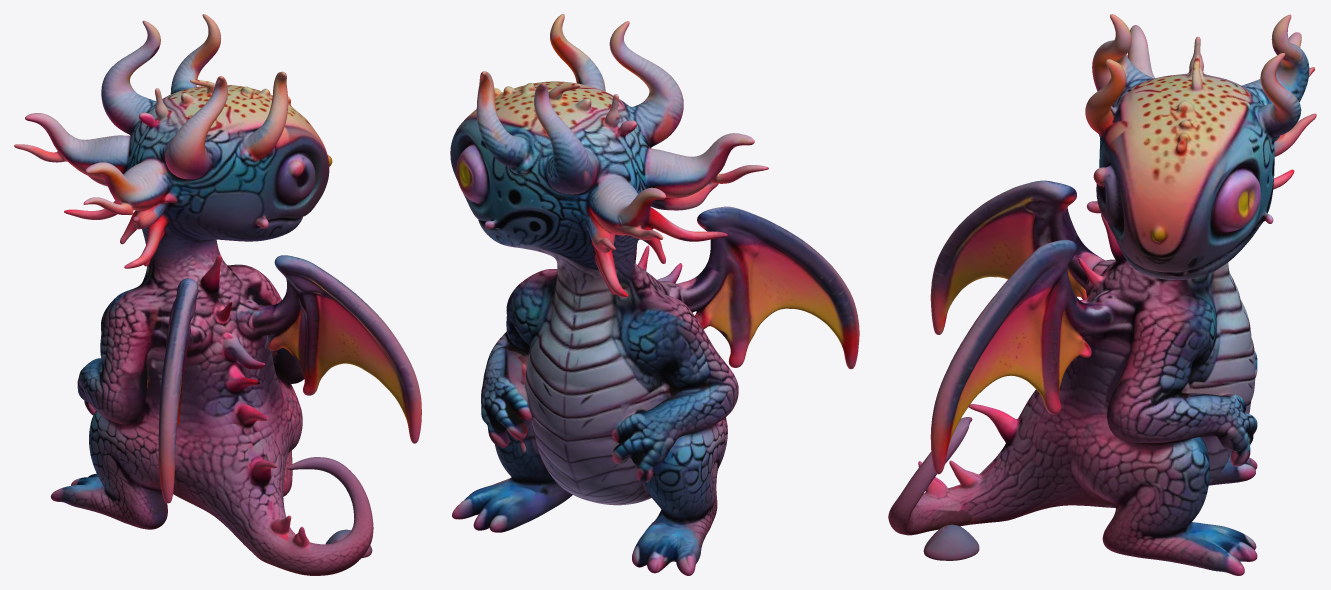
The model's file is Dragon-transformed-D-U4h6BN.glb.
3 renders of one model, left to right at view 1: azimuth 30°, elevation 25°; view 2: azimuth 150°, elevation 25°; view 3: azimuth 270°, elevation 25°, orthographic. The views are drawn at different scales.
Parts seen in each view (by area): view 1: tripo_node_52f2a499-e337-4ec8-b1a6-e4d7ca6d594c; view 2: tripo_node_52f2a499-e337-4ec8-b1a6-e4d7ca6d594c; view 3: tripo_node_52f2a499-e337-4ec8-b1a6-e4d7ca6d594c.
Boxes of the visible parts, box(x1,y1,x2,y2) form: tripo_node_52f2a499-e337-4ec8-b1a6-e4d7ca6d594c: box(14, 14, 421, 575); tripo_node_52f2a499-e337-4ec8-b1a6-e4d7ca6d594c: box(450, 14, 859, 575); tripo_node_52f2a499-e337-4ec8-b1a6-e4d7ca6d594c: box(888, 14, 1316, 575).
Bounding box in the file's own units: 0.6013 × 0.9479 × 0.7274.
1 material, 1 textured.
